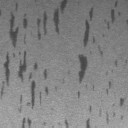red iron: (0, 0, 68, 128), (78, 7, 103, 84), (86, 106, 109, 128), (107, 0, 118, 30), (120, 98, 126, 107), (64, 119, 69, 128), (114, 60, 118, 67), (108, 81, 112, 88), (77, 91, 80, 98)
